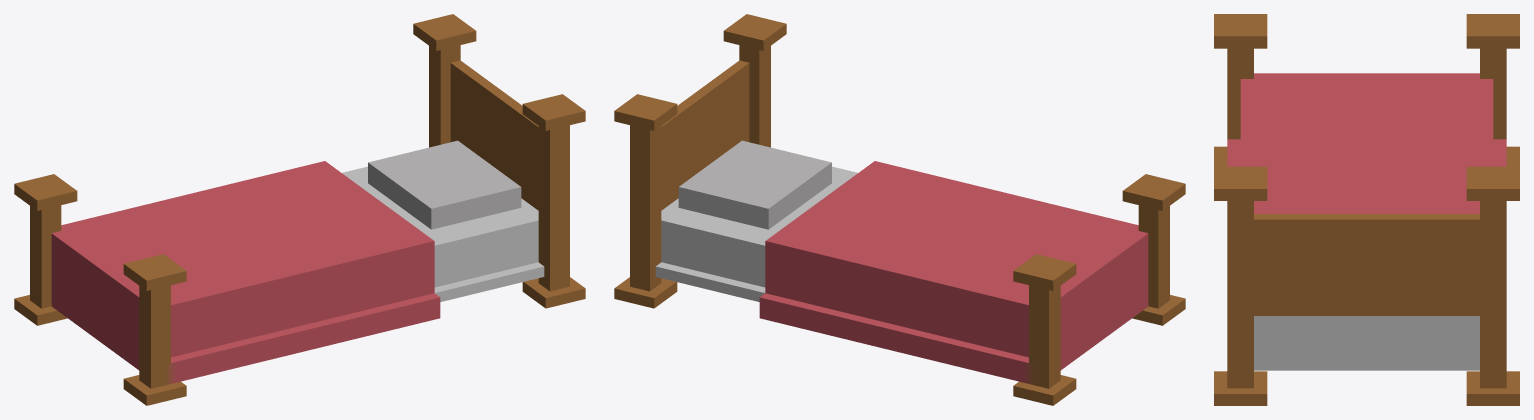
The model's file is bedsingle.fbx.
The picture shows the model from 3 angles, left to right: view 1: azimuth 30°, elevation 25°; view 2: azimuth 150°, elevation 25°; view 3: azimuth 270°, elevation 25°; orthographic projection. The views are drawn at different scales.
Parts seen in each view (by area): view 1: bedsingle; view 2: bedsingle; view 3: bedsingle.
Part boxes in pixels (<box>): bedsingle: <box>14,14,585,405</box>; bedsingle: <box>614,14,1185,405</box>; bedsingle: <box>1214,14,1519,405</box>.
Size of the model in its own units: 44 by 18 by 23.
